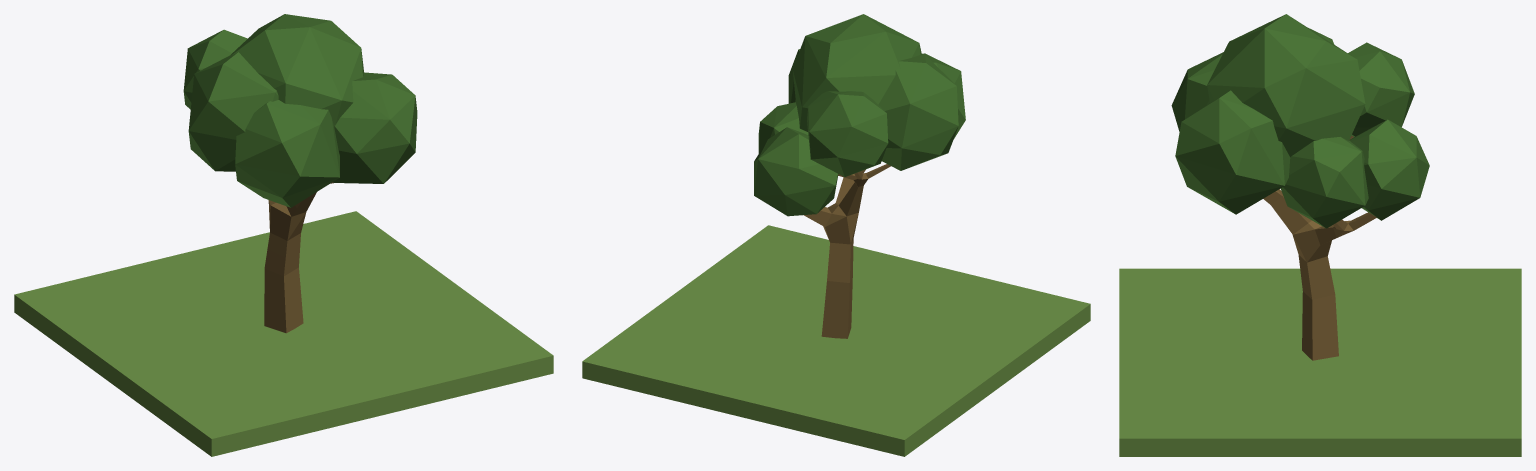
Rendered from grass_tree.fbx.
The picture shows the model from 3 angles, left to right: view 1: azimuth 30°, elevation 25°; view 2: azimuth 150°, elevation 25°; view 3: azimuth 270°, elevation 25°; orthographic projection. The views are drawn at different scales.
Visible parts, largest first — view 1: Cube.008; view 2: Cube.008; view 3: Cube.008.
Boxes of the visible parts, box(x1,y1,x2,y2) form: Cube.008: box(14, 14, 553, 456); Cube.008: box(582, 14, 1090, 456); Cube.008: box(1119, 14, 1521, 456).
Bounding box in the file's own units: 200 × 188 × 200.
